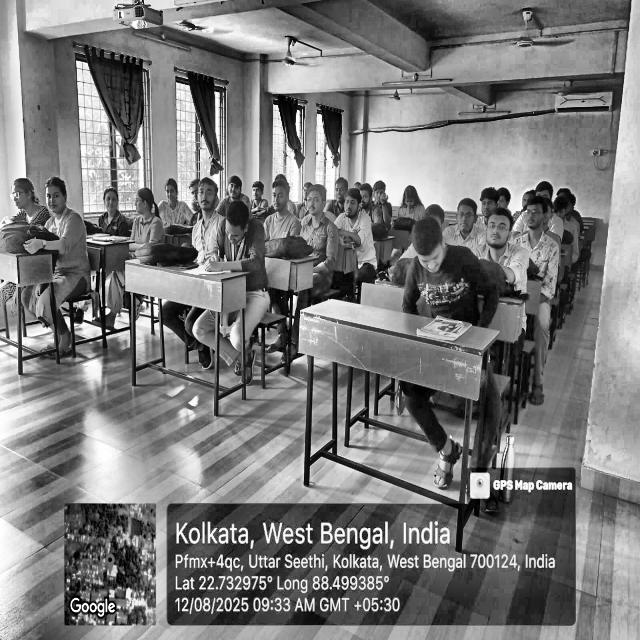Focus: (271, 170, 333, 250), (482, 179, 554, 239), (479, 208, 526, 264), (452, 179, 482, 242), (248, 172, 267, 211)
Not Focus: (400, 211, 466, 337), (0, 168, 86, 239), (182, 180, 250, 264), (97, 182, 168, 241), (335, 170, 370, 226), (223, 170, 251, 202), (370, 174, 393, 212)
